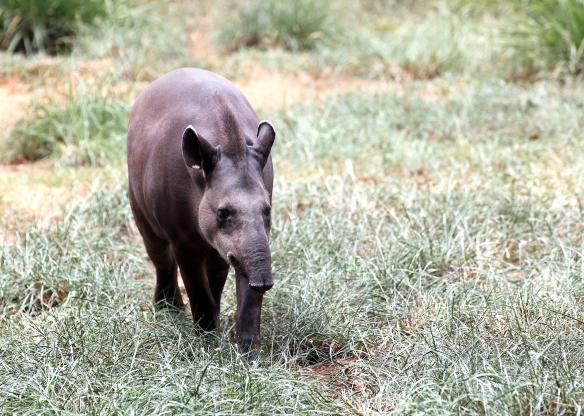Anta: (124, 64, 283, 364)
